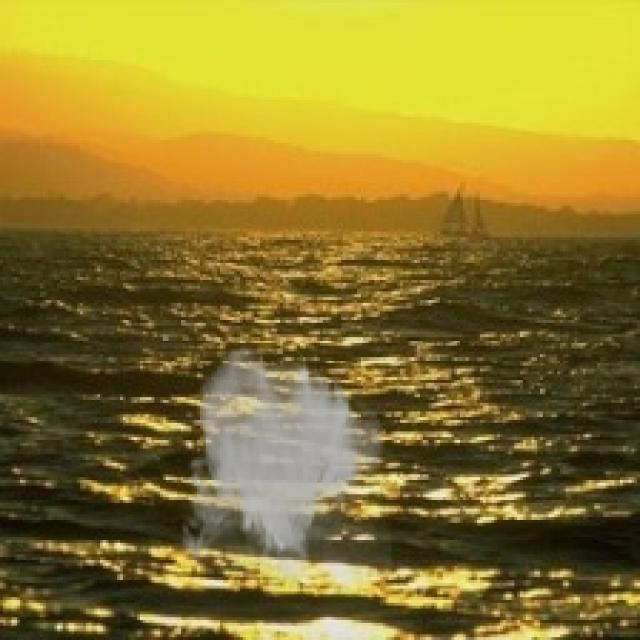smoke: (175, 343, 392, 586)
